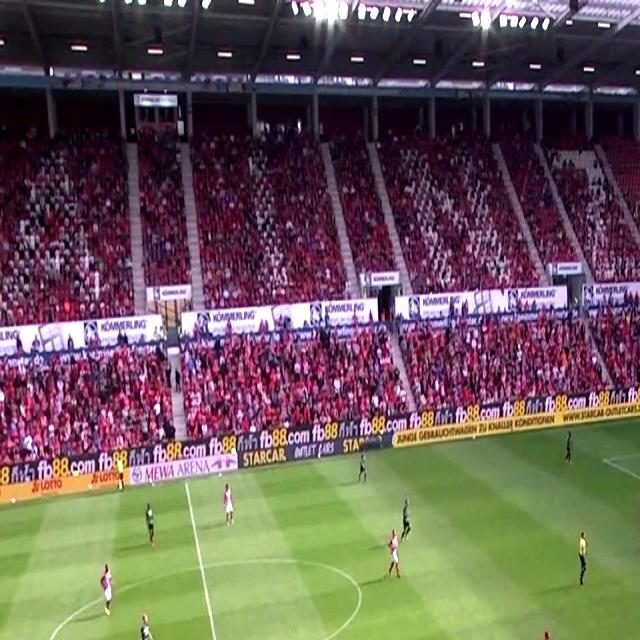referee: (573, 529, 595, 592)
soccer-player: (94, 560, 118, 622), (381, 528, 404, 586), (141, 498, 160, 550), (400, 493, 417, 542), (220, 481, 236, 531), (560, 426, 578, 468), (356, 441, 370, 485), (528, 624, 560, 640), (634, 505, 640, 559), (481, 637, 509, 640)
